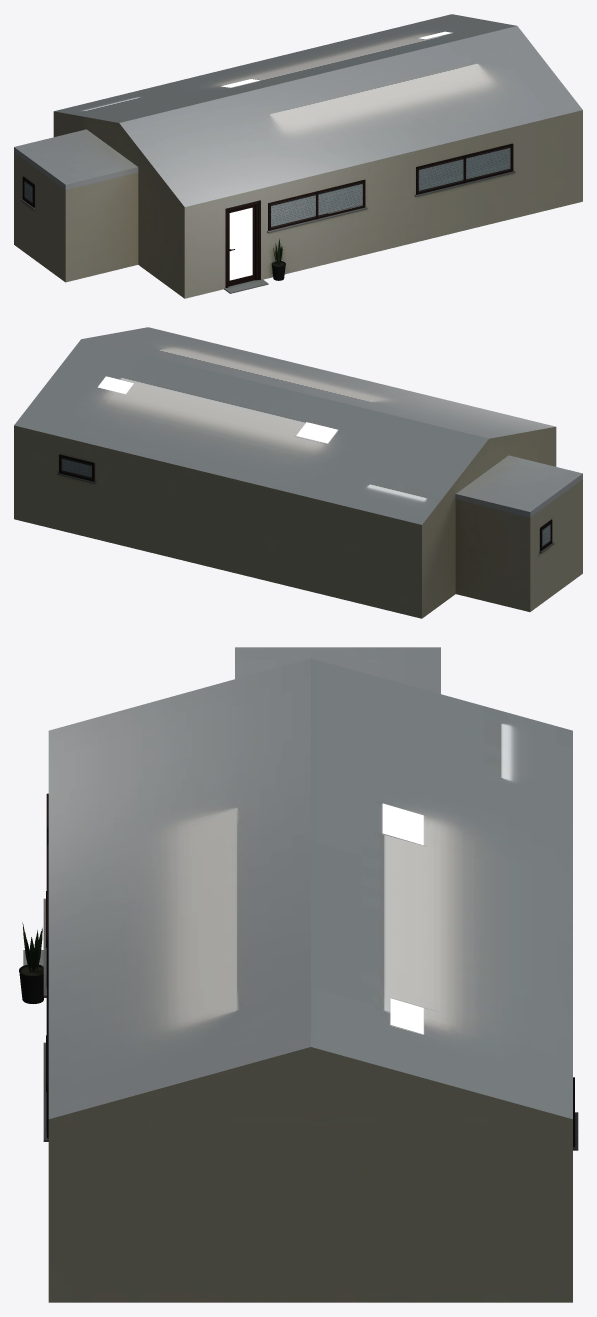
Rendered from studio.glb.
3 views of the same model, one above another, from view 1: azimuth 30°, elevation 25°; view 2: azimuth 150°, elevation 25°; view 3: azimuth 270°, elevation 25° (orthographic). The views are drawn at different scales.
Parts seen in each view (by area): view 1: BAKE_facade, DOOR_front_glass, BAKE_door_front; view 2: BAKE_facade, GLS_skylight_desk, GLS_skylight_gym; view 3: BAKE_facade, GLS_skylight_desk, GLS_skylight_gym.
Boxes of the visible parts, left/top/right/bottom form: BAKE_facade: left=14, top=14, right=582, bottom=298; DOOR_front_glass: left=229, top=207, right=252, bottom=280; BAKE_door_front: left=228, top=205, right=255, bottom=286; BAKE_facade: left=14, top=327, right=582, bottom=618; GLS_skylight_desk: left=296, top=422, right=337, bottom=443; GLS_skylight_gym: left=98, top=376, right=133, bottom=393; BAKE_facade: left=19, top=647, right=578, bottom=1302; GLS_skylight_desk: left=382, top=803, right=423, bottom=845; GLS_skylight_gym: left=390, top=998, right=423, bottom=1034.
Size of the model in its own units: 13.68 by 3.57 by 7.
Materials: 13 (7 with a texture image).
